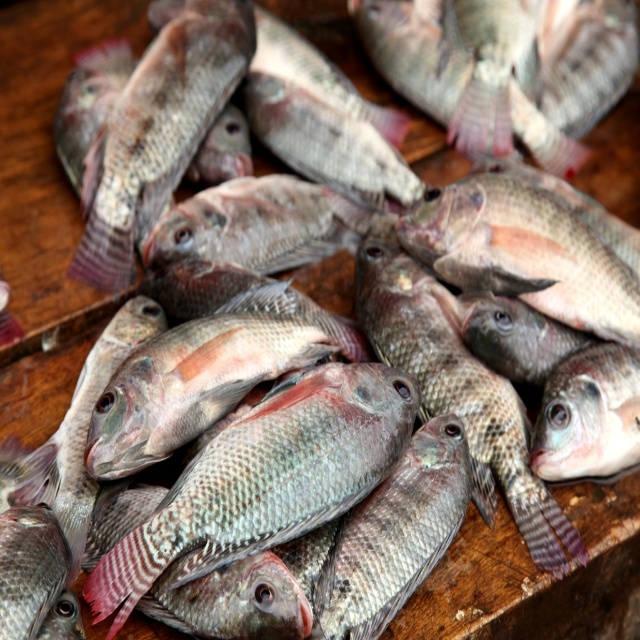Fish: (0, 1, 640, 640)
